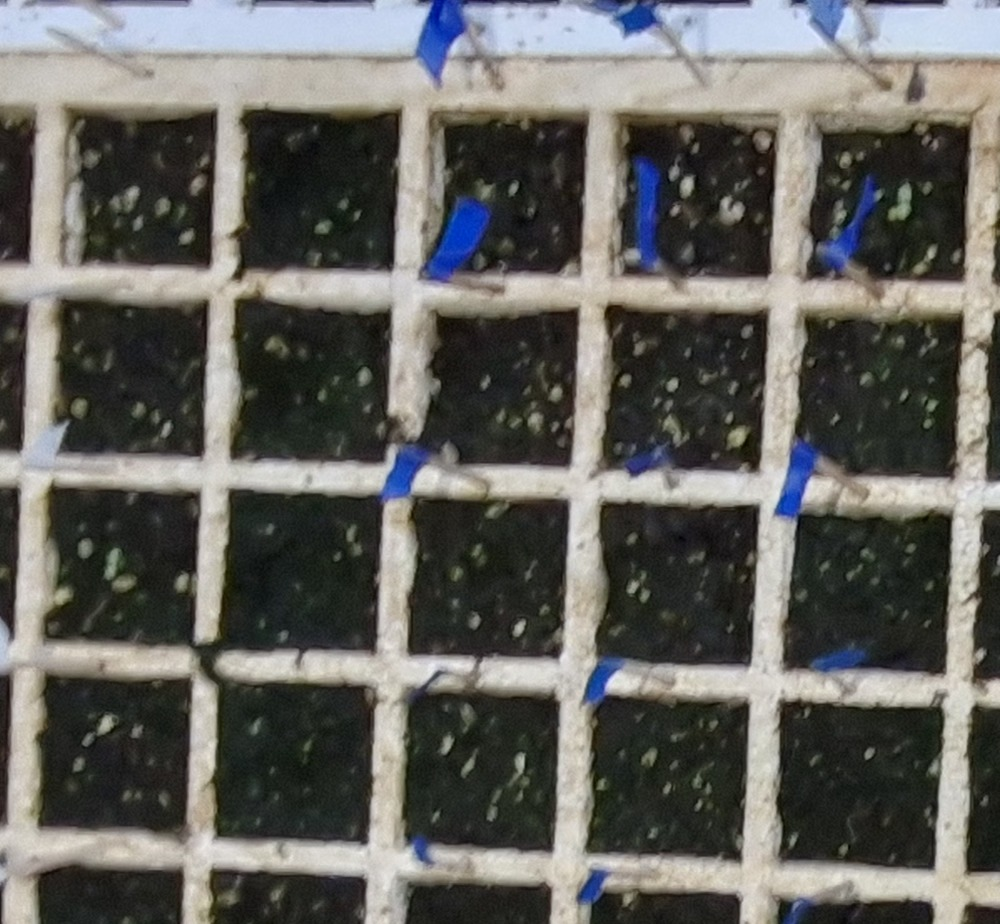Folha: (894, 202, 913, 220), (899, 182, 913, 203), (107, 549, 123, 565), (103, 565, 118, 581)
Germinacao: (895, 184, 912, 221), (105, 548, 119, 579)
